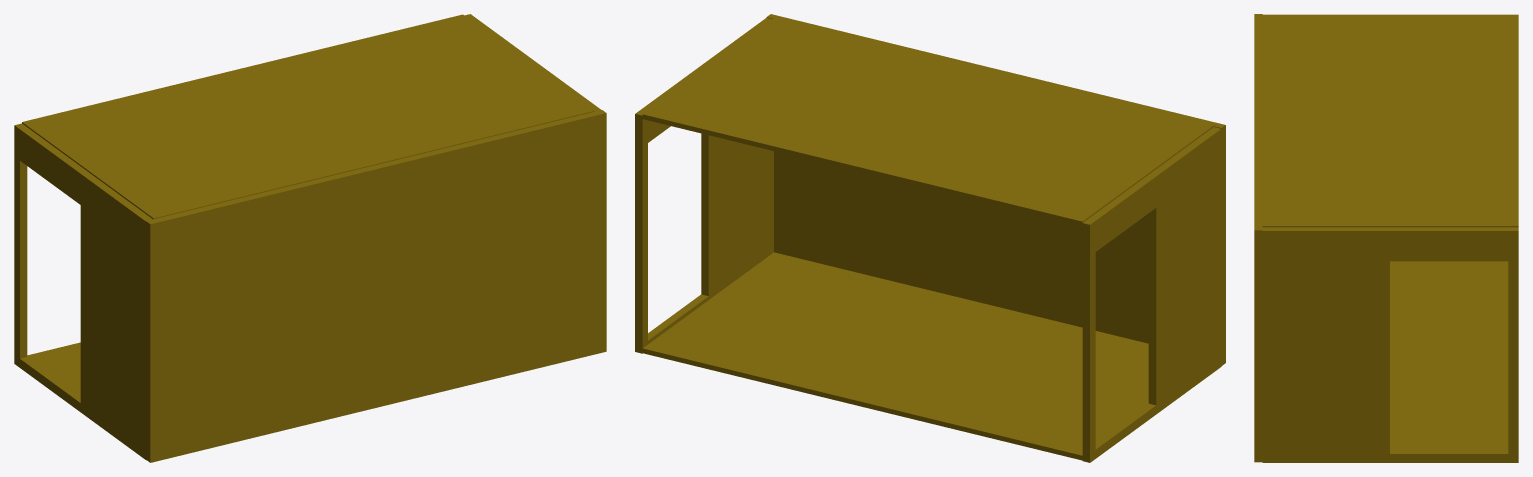
File: Frame_3_6.obj
3 renders of one model, left to right at view 1: azimuth 30°, elevation 25°; view 2: azimuth 150°, elevation 25°; view 3: azimuth 270°, elevation 25°, orthographic. The views are drawn at different scales.
Visible parts, largest first — view 1: Box012; view 2: Box012; view 3: Box012.
Boxes of the visible parts, left/top/right/bottom form: Box012: left=14, top=14, right=606, bottom=462; Box012: left=635, top=14, right=1225, bottom=462; Box012: left=1254, top=14, right=1518, bottom=462.
Bounding box in the file's own units: 6 × 3.02 × 3.1.
